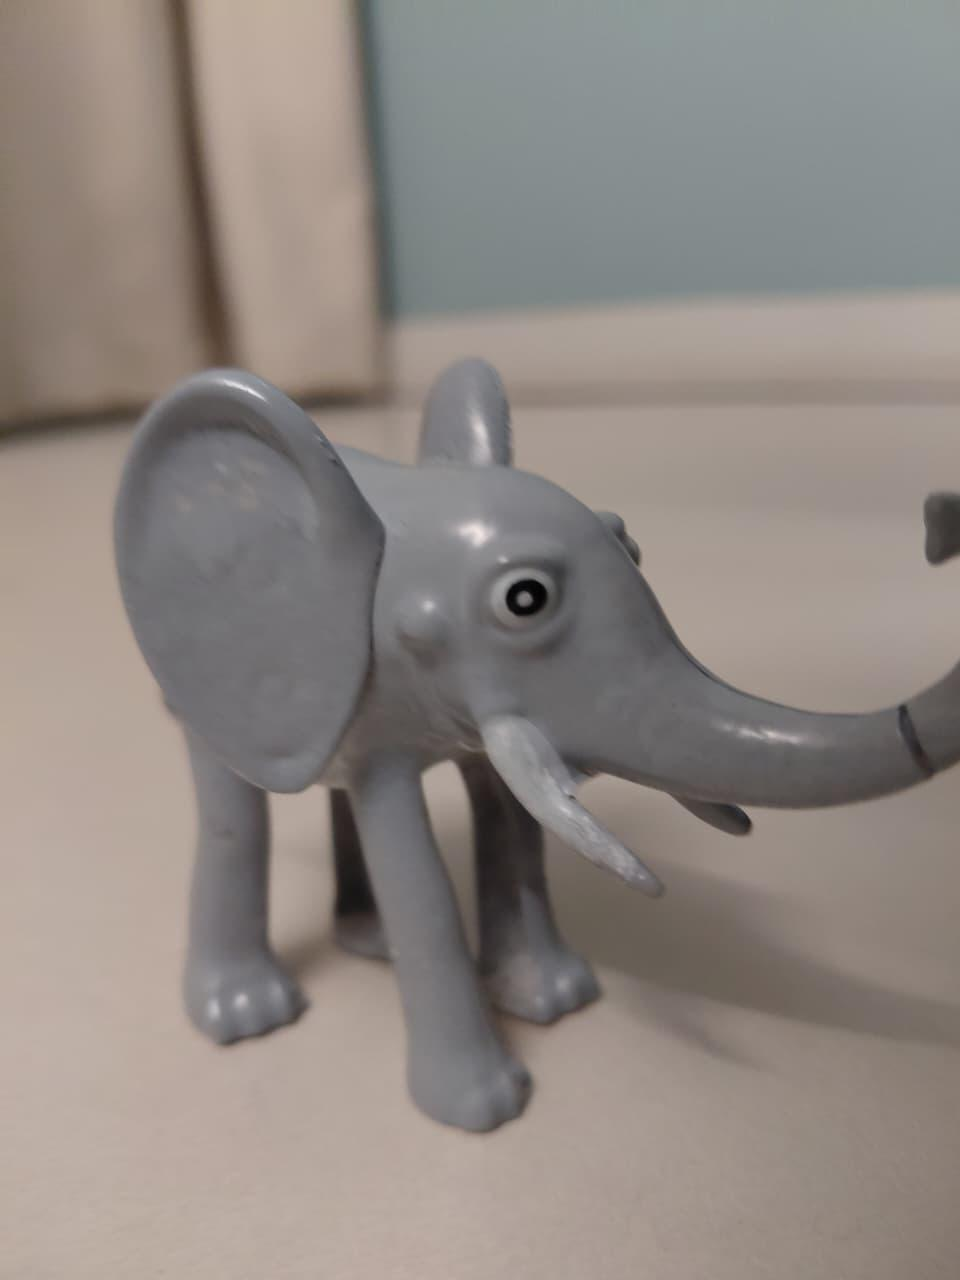elephant: (47, 298, 960, 1169)
